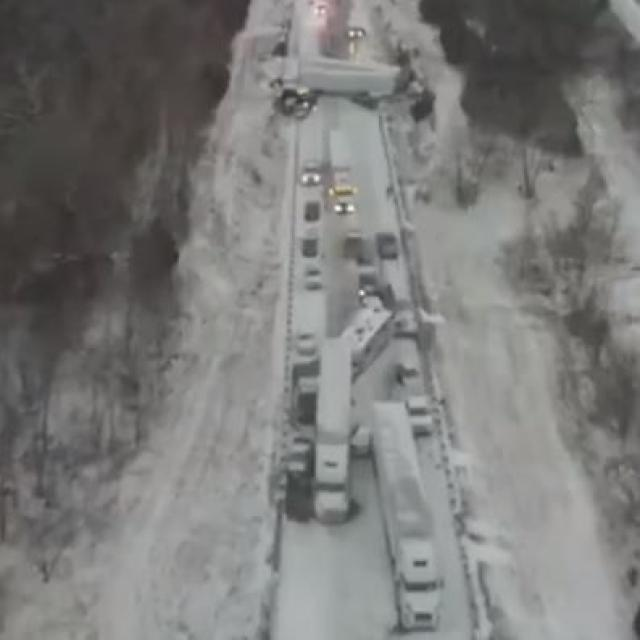traffic_incident: (301, 279, 403, 435), (269, 48, 416, 126)
